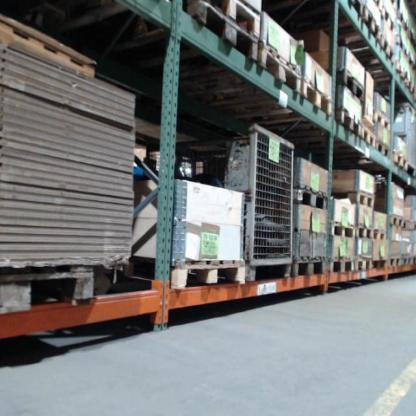pallet: (1, 257, 98, 320), (176, 2, 266, 66), (127, 253, 243, 290), (198, 1, 266, 35), (262, 39, 299, 91), (304, 78, 335, 119), (293, 184, 331, 214), (289, 255, 328, 282), (339, 67, 366, 100), (335, 111, 363, 139), (333, 187, 377, 204), (323, 255, 354, 276), (329, 221, 357, 240), (377, 36, 396, 64), (362, 122, 378, 152), (391, 150, 410, 173), (364, 10, 379, 39), (393, 58, 407, 87), (355, 257, 375, 274), (382, 10, 399, 30), (356, 225, 371, 245), (370, 225, 389, 240), (375, 110, 390, 128), (389, 255, 405, 271), (387, 213, 405, 226), (378, 142, 391, 160), (347, 1, 361, 14)
stillage: (144, 122, 294, 287), (394, 98, 415, 179)
